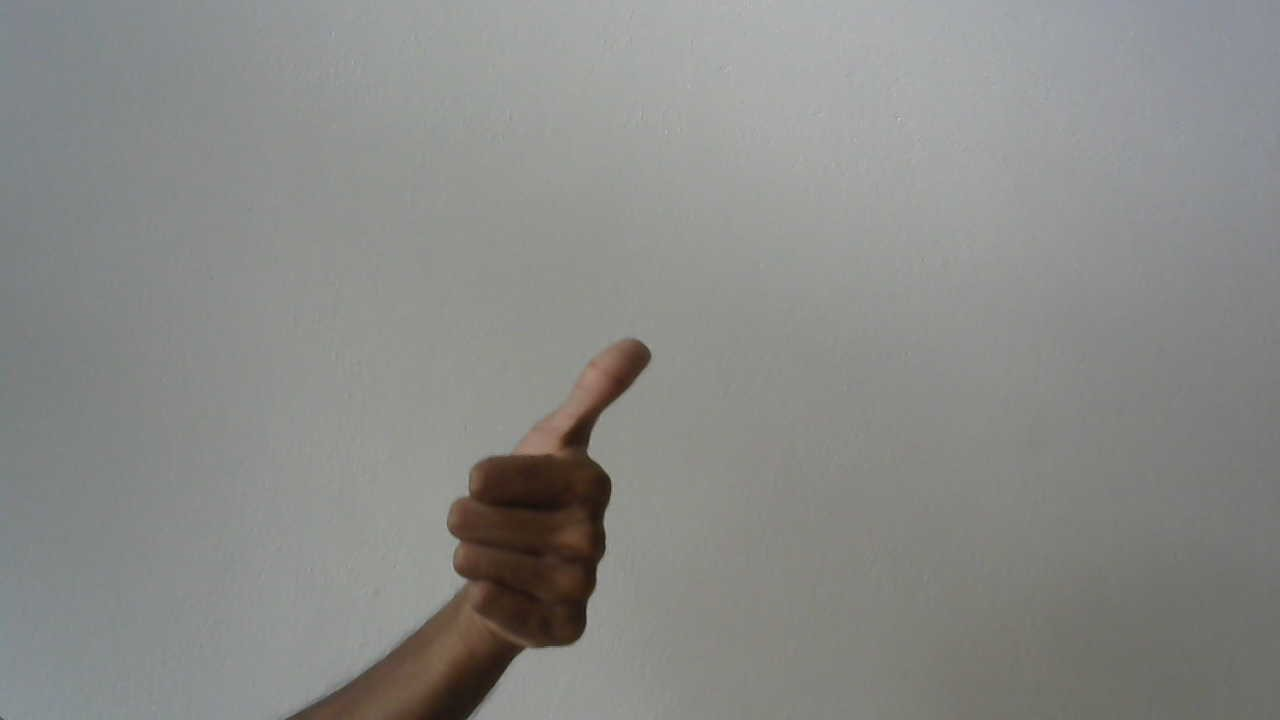thumbsup: (438, 320, 661, 668)
